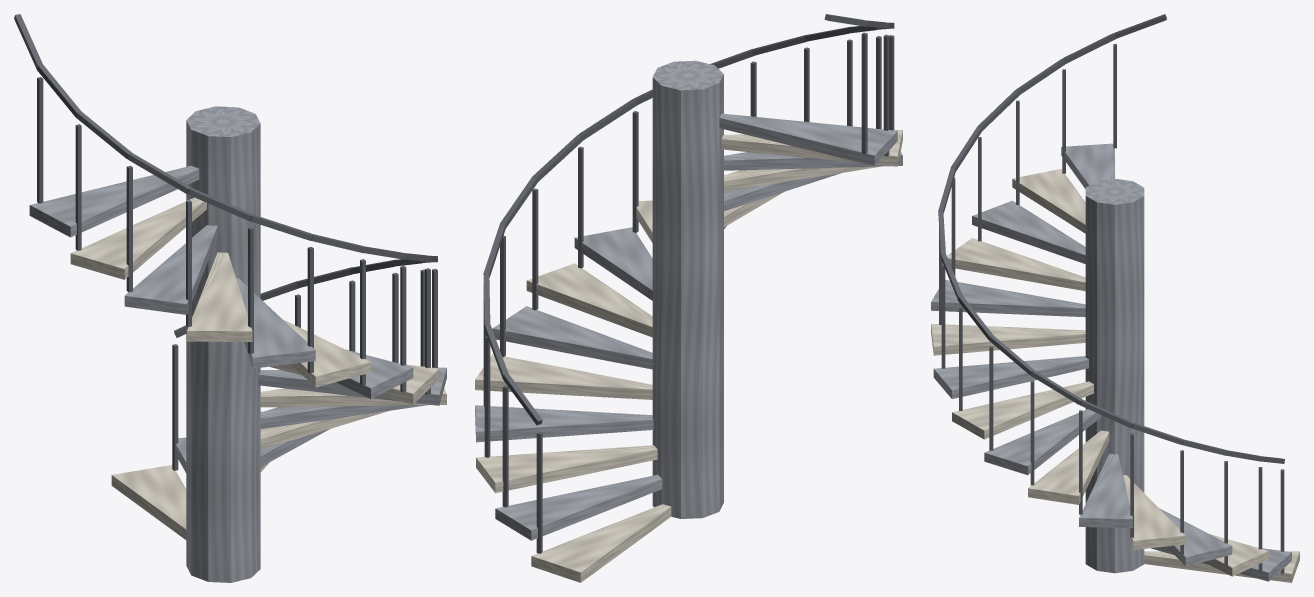
File: vampire-crypt-and-gothic-cathedral-spiral-stair-1fba2067__22990.glb
3 views of the same model, side by side, from view 1: azimuth 30°, elevation 25°; view 2: azimuth 150°, elevation 25°; view 3: azimuth 270°, elevation 25° (orthographic). The views are drawn at different scales.
Parts seen in each view (by area): view 1: spiral-stair; view 2: spiral-stair; view 3: spiral-stair.
Boxes of the visible parts, x1,y1,x2,y2 form: spiral-stair: (14, 14, 446, 582); spiral-stair: (475, 14, 902, 582); spiral-stair: (931, 14, 1299, 582).
Size of the model in its own units: 2.99 by 4.25 by 2.99.
3 materials, 2 textured.
